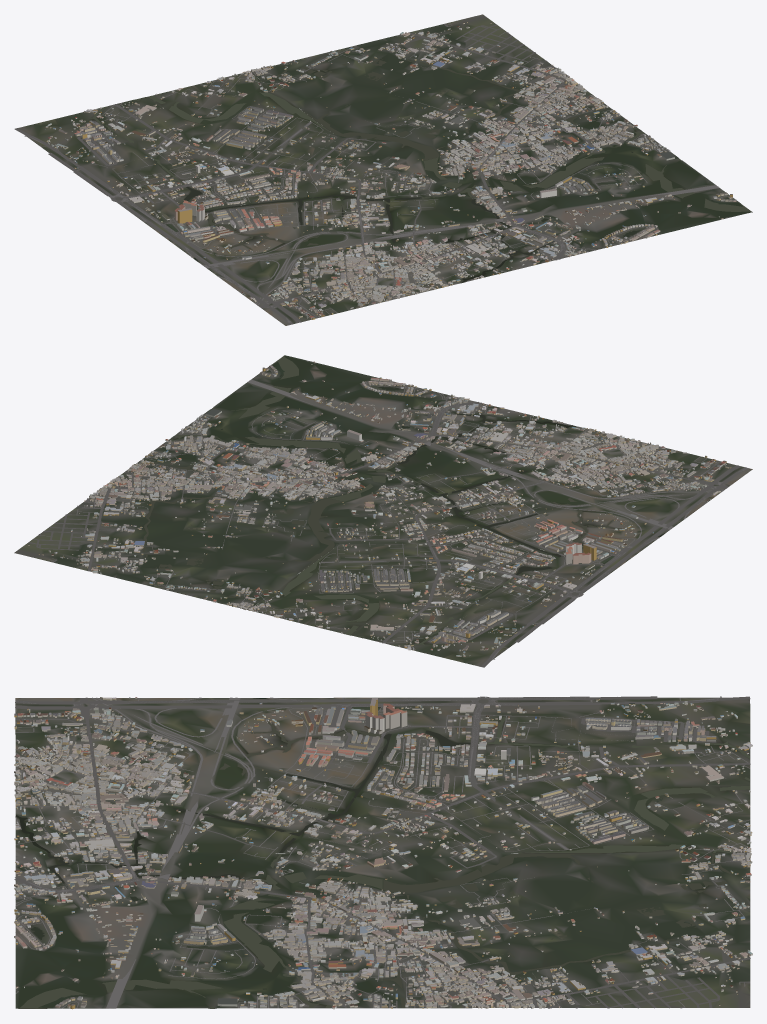
3 views of the same model, one above another, from view 1: azimuth 30°, elevation 25°; view 2: azimuth 150°, elevation 25°; view 3: azimuth 270°, elevation 25° (orthographic). The views are drawn at different scales.
Visible parts, largest first — view 1: ground, buildings, roads, water; view 2: ground, buildings, roads, water; view 3: ground, buildings, roads, water.
Boxes of the visible parts, box(x1,y1,x2,y2) form: ground: box(18, 14, 752, 325); buildings: box(44, 22, 736, 319); roads: box(14, 23, 733, 324); water: box(90, 56, 750, 282); ground: box(14, 355, 752, 666); buildings: box(28, 361, 731, 656); roads: box(28, 360, 748, 667); water: box(142, 356, 664, 645); ground: box(15, 697, 750, 1008); buildings: box(14, 697, 752, 1009); roads: box(14, 696, 750, 1008); water: box(16, 698, 749, 1008).
Size of the model in its own units: 2822 by 75.62 by 2817.
